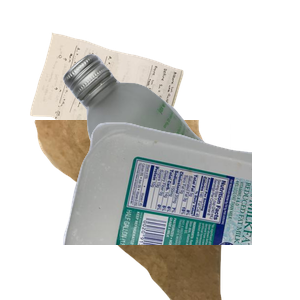glass: (60, 51, 300, 231)
paper: (27, 30, 203, 178)
plastic: (60, 120, 300, 300)
trash: (32, 120, 248, 300)
